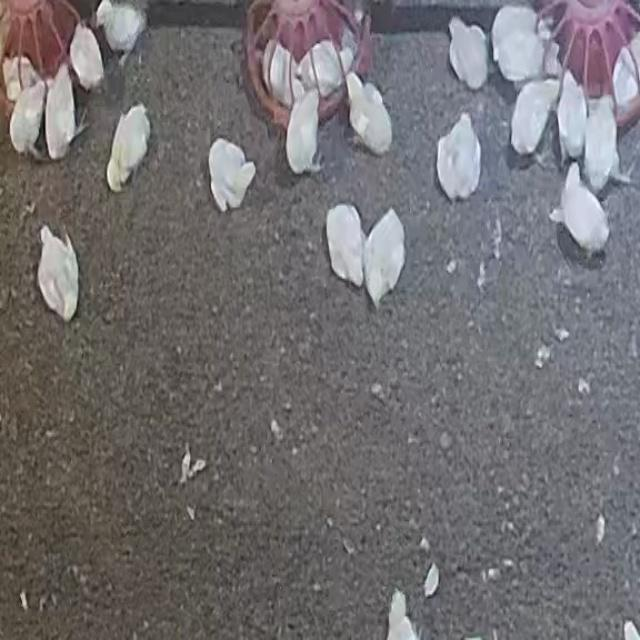chicken: (548, 164, 610, 256), (104, 102, 154, 193), (206, 134, 259, 218), (491, 5, 546, 84), (362, 208, 406, 306), (36, 226, 80, 322), (510, 76, 561, 158), (344, 73, 393, 155), (436, 114, 482, 200), (325, 200, 367, 292), (285, 88, 324, 174), (8, 76, 48, 158), (448, 16, 490, 90), (556, 69, 588, 163), (68, 19, 105, 92)
